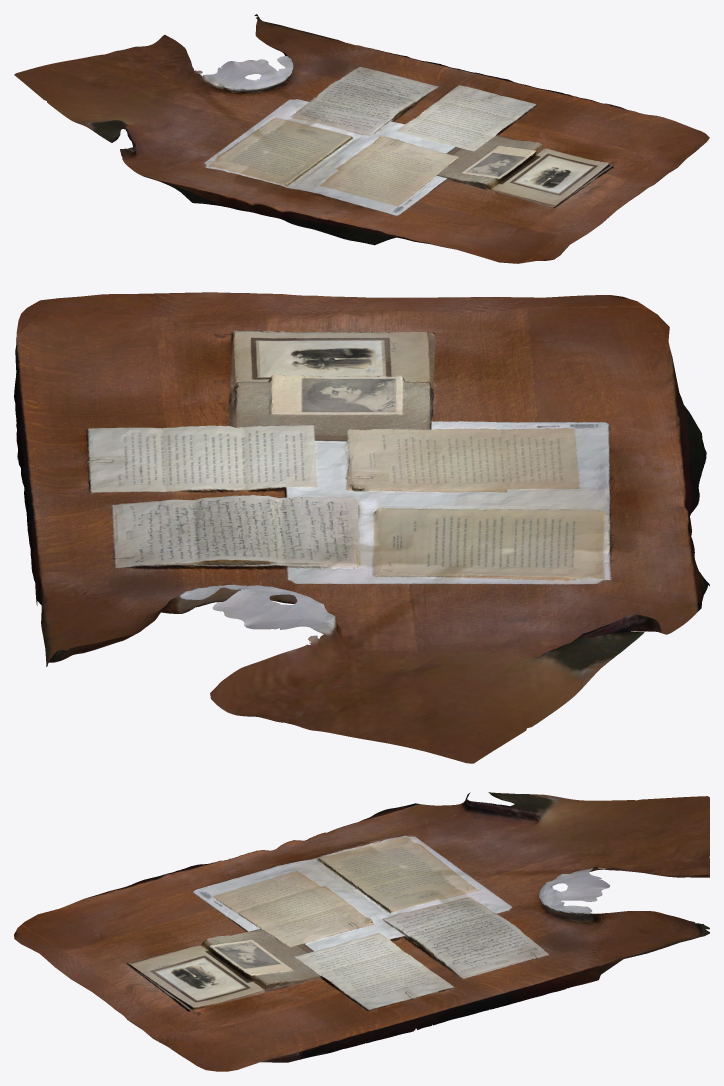
The model's file is scan12.glb.
The picture shows the model from 3 angles, top to bottom: view 1: azimuth 30°, elevation 25°; view 2: azimuth 150°, elevation 25°; view 3: azimuth 270°, elevation 25°; orthographic projection. The views are drawn at different scales.
Bounding box in the file's own units: 1.76 × 0.0788 × 2.
Materials: 1 (1 with a texture image).
